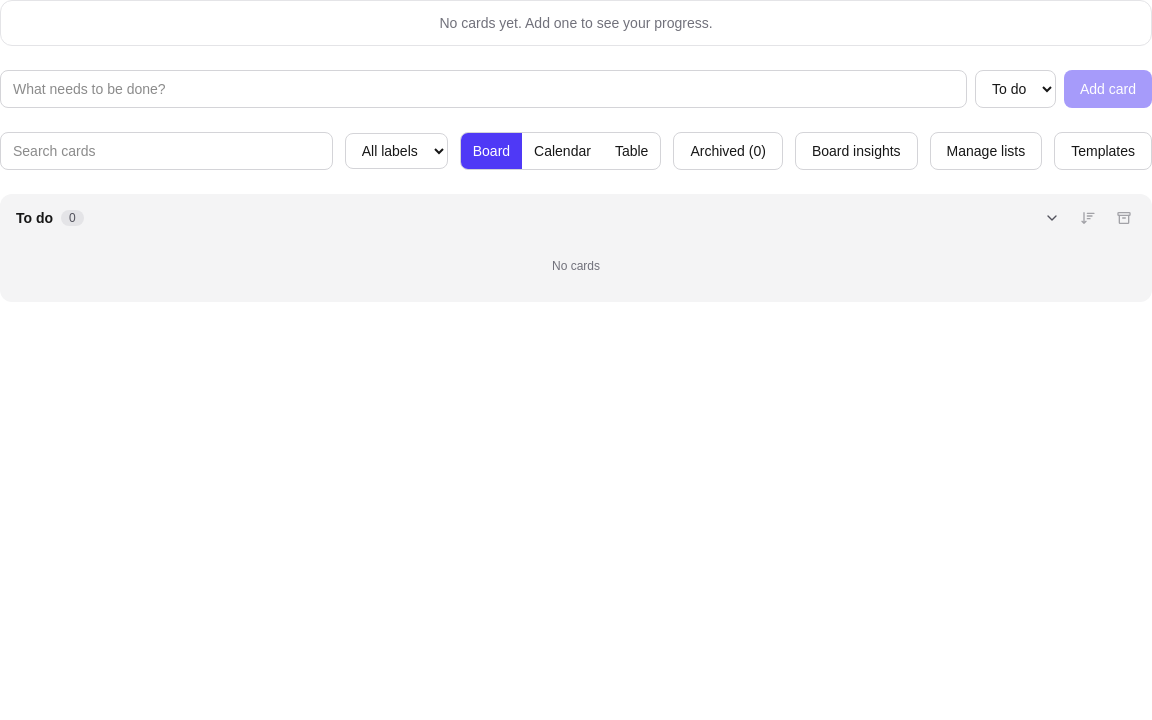
Test: <Board /> custom lists › cannot delete the last list
Click the button "Manage lists" at (986, 151), box [930,132,1042,170]
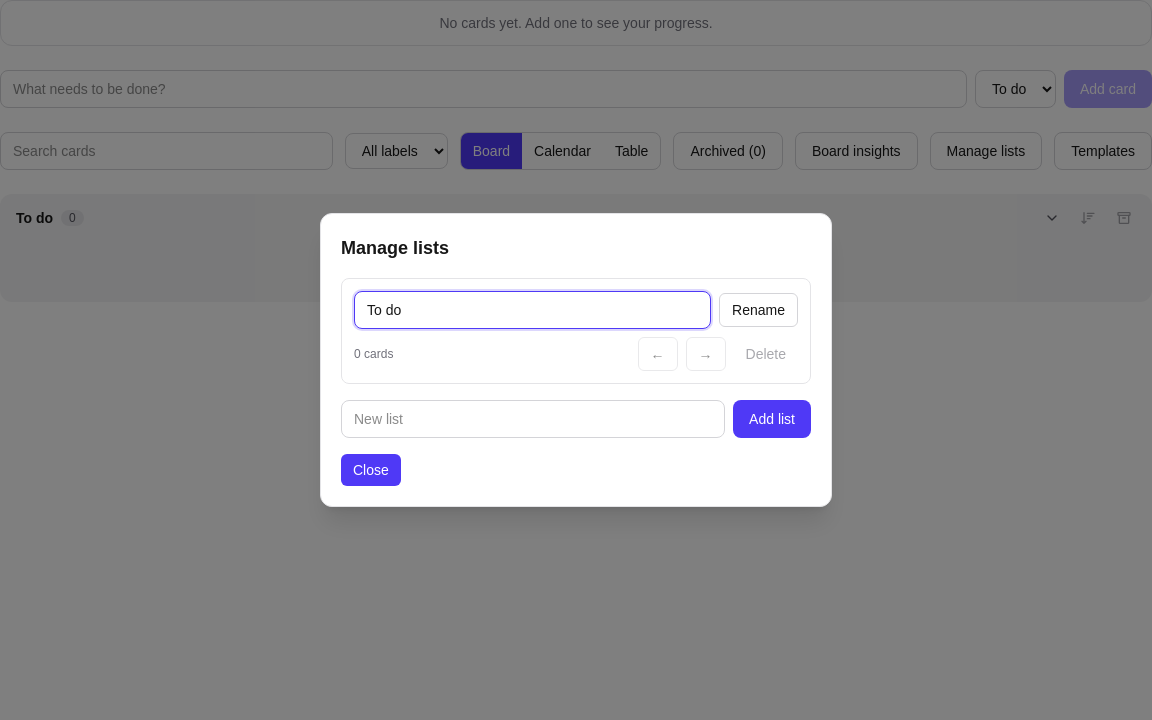
Now the button named "Delete list \"To do\"" is disabled, box [734,338,798,370]
